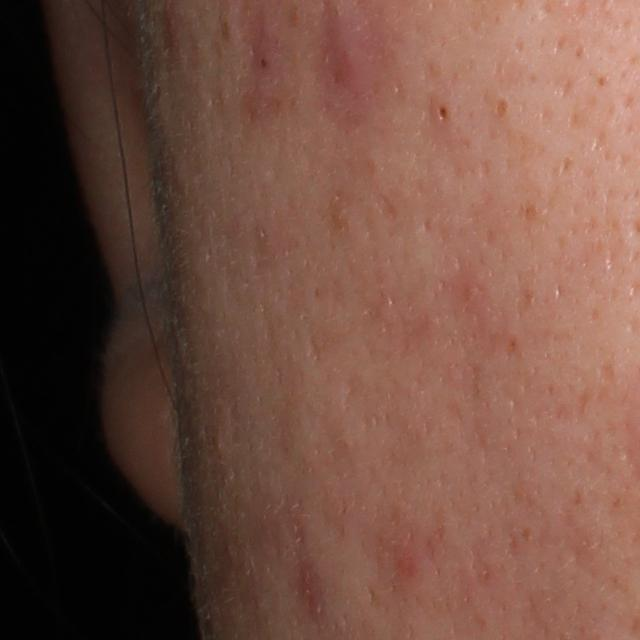atrophic_scar: (369, 191, 398, 229)
comedo: (493, 93, 511, 124), (433, 102, 454, 127)
papule: (324, 35, 372, 95)
